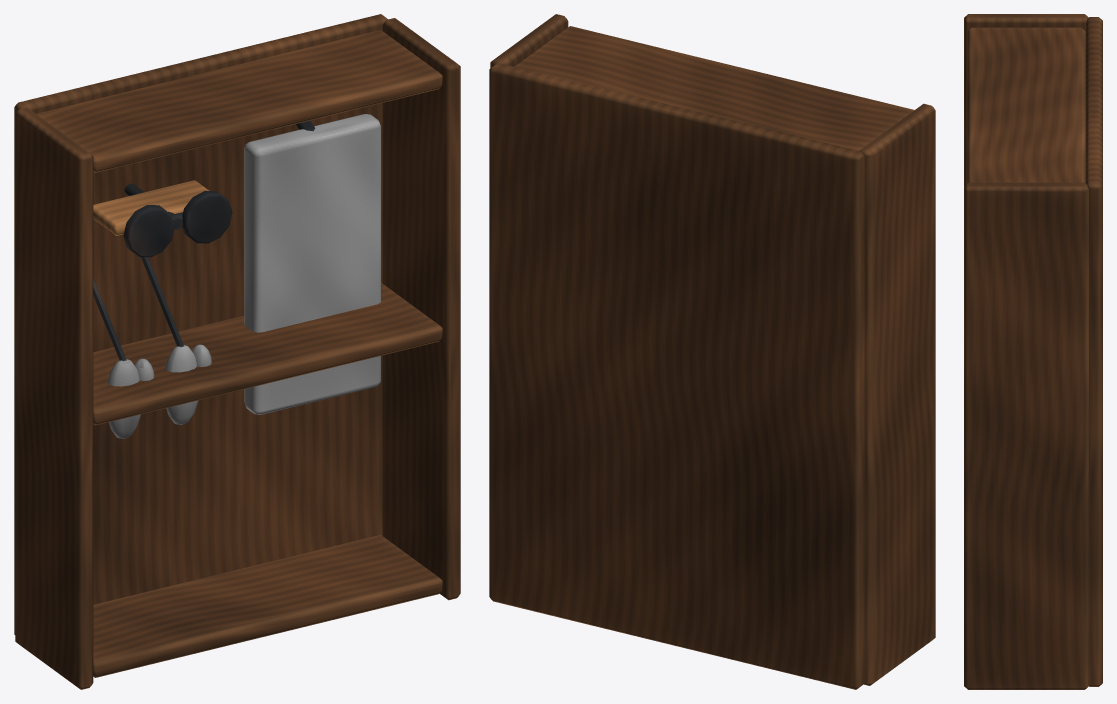
The model's file is Furn_Broom_GearShelf.fbx.
3 views of the same model, side by side, from view 1: azimuth 30°, elevation 25°; view 2: azimuth 150°, elevation 25°; view 3: azimuth 270°, elevation 25° (orthographic). The views are drawn at different scales.
Parts seen in each view (by area): view 1: Furn_Broom_GearShelf; view 2: Furn_Broom_GearShelf; view 3: Furn_Broom_GearShelf.
Boxes of the visible parts, bbox=[...] form: Furn_Broom_GearShelf: bbox=[14, 14, 460, 689]; Furn_Broom_GearShelf: bbox=[489, 14, 935, 689]; Furn_Broom_GearShelf: bbox=[964, 14, 1102, 689].
Bounding box in the file's own units: 1.2 × 1.6 × 0.4.
Materials: 4 (4 with a texture image).
